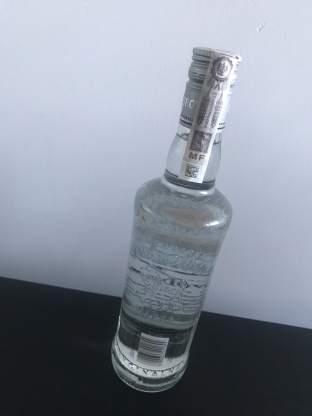nakretka: (177, 41, 243, 136)
